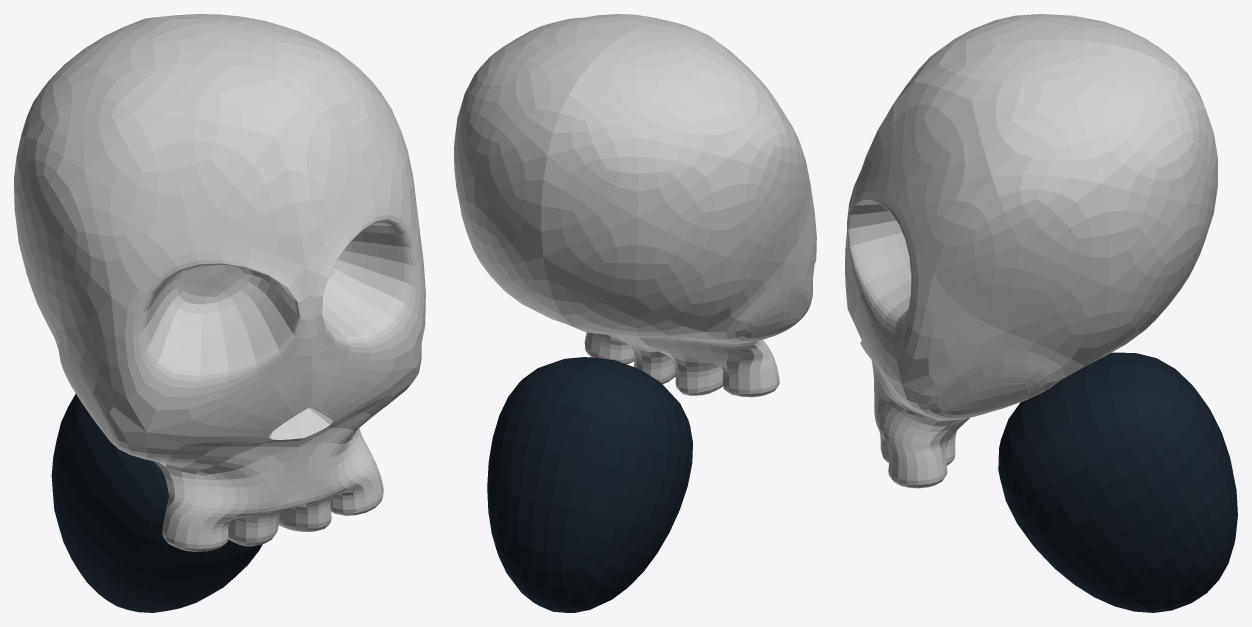
File: skullatron_minion.fbx
3 views of the same model, side by side, from view 1: azimuth 30°, elevation 25°; view 2: azimuth 150°, elevation 25°; view 3: azimuth 270°, elevation 25° (orthographic). The views are drawn at different scales.
Parts seen in each view (by area): view 1: Icosphere; view 2: Icosphere; view 3: Icosphere.
Boxes of the visible parts, x1,y1,x2,y2 form: Icosphere: [14, 14, 425, 612]; Icosphere: [454, 14, 816, 612]; Icosphere: [845, 14, 1237, 612].
Bounding box in the file's own units: 305 × 510 × 320.
